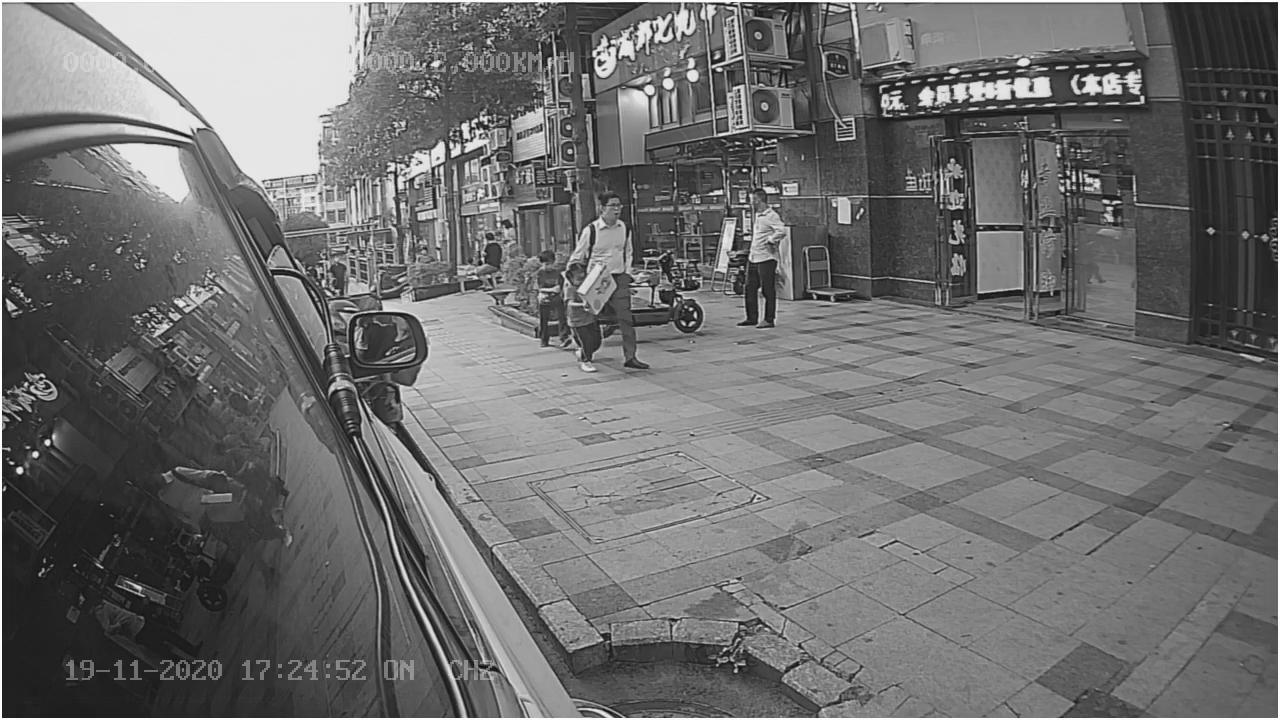person: (573, 189, 641, 278), (525, 241, 567, 346)
